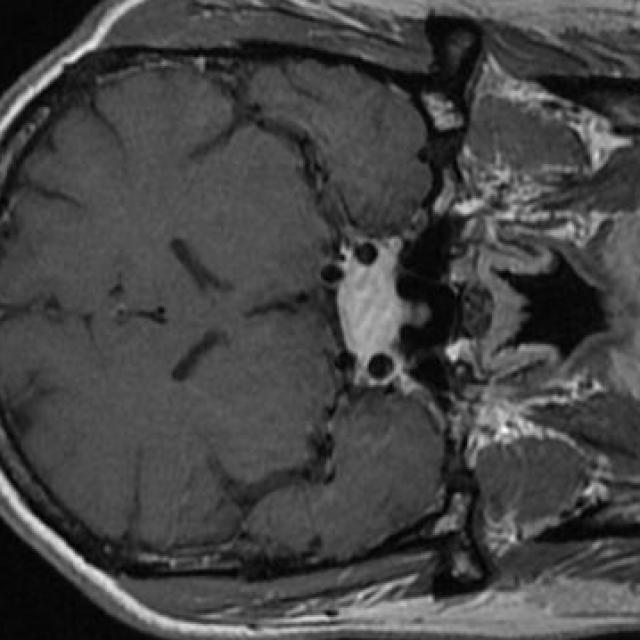pituitary: (337, 258, 410, 360)
